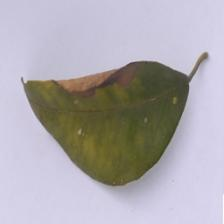black spot: (56, 52, 142, 104)
